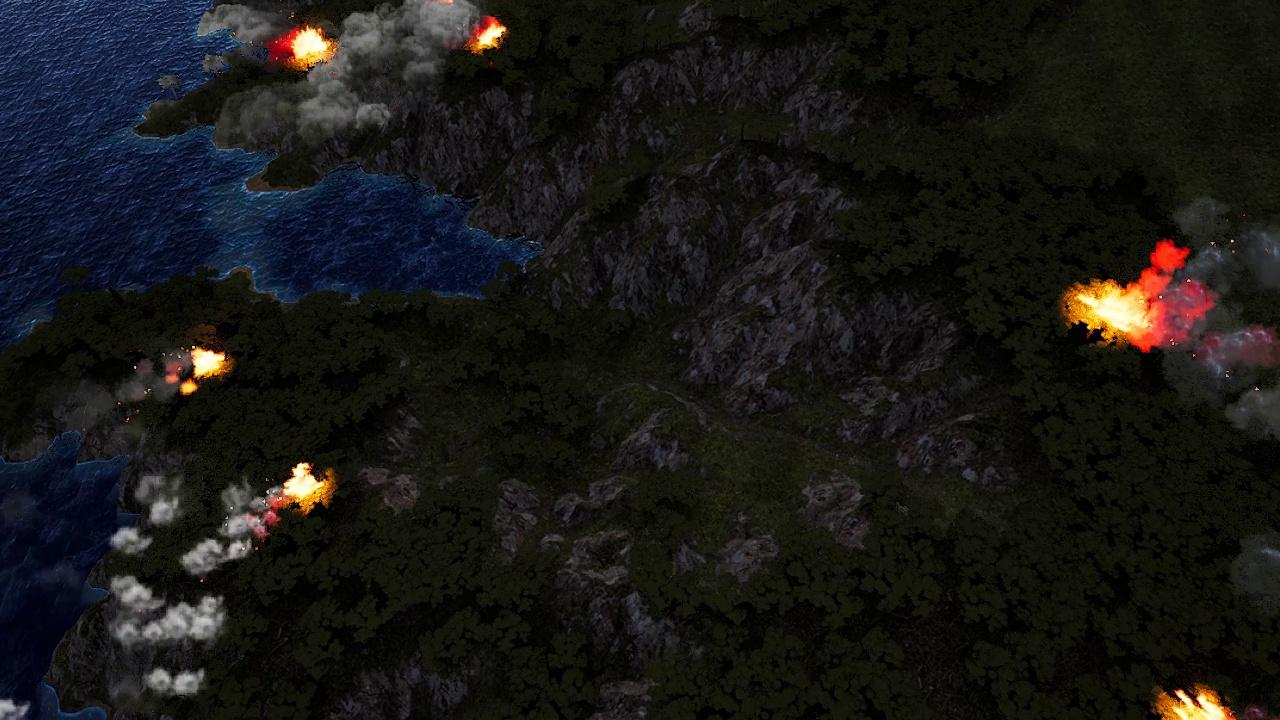fire: (1070, 277, 1163, 344), (274, 464, 330, 513), (1160, 690, 1239, 720), (289, 29, 333, 65), (466, 16, 503, 54), (195, 348, 231, 382)
smoke: (107, 468, 283, 712), (1151, 190, 1280, 440), (285, 0, 477, 132), (72, 340, 200, 430), (1222, 528, 1280, 612)
